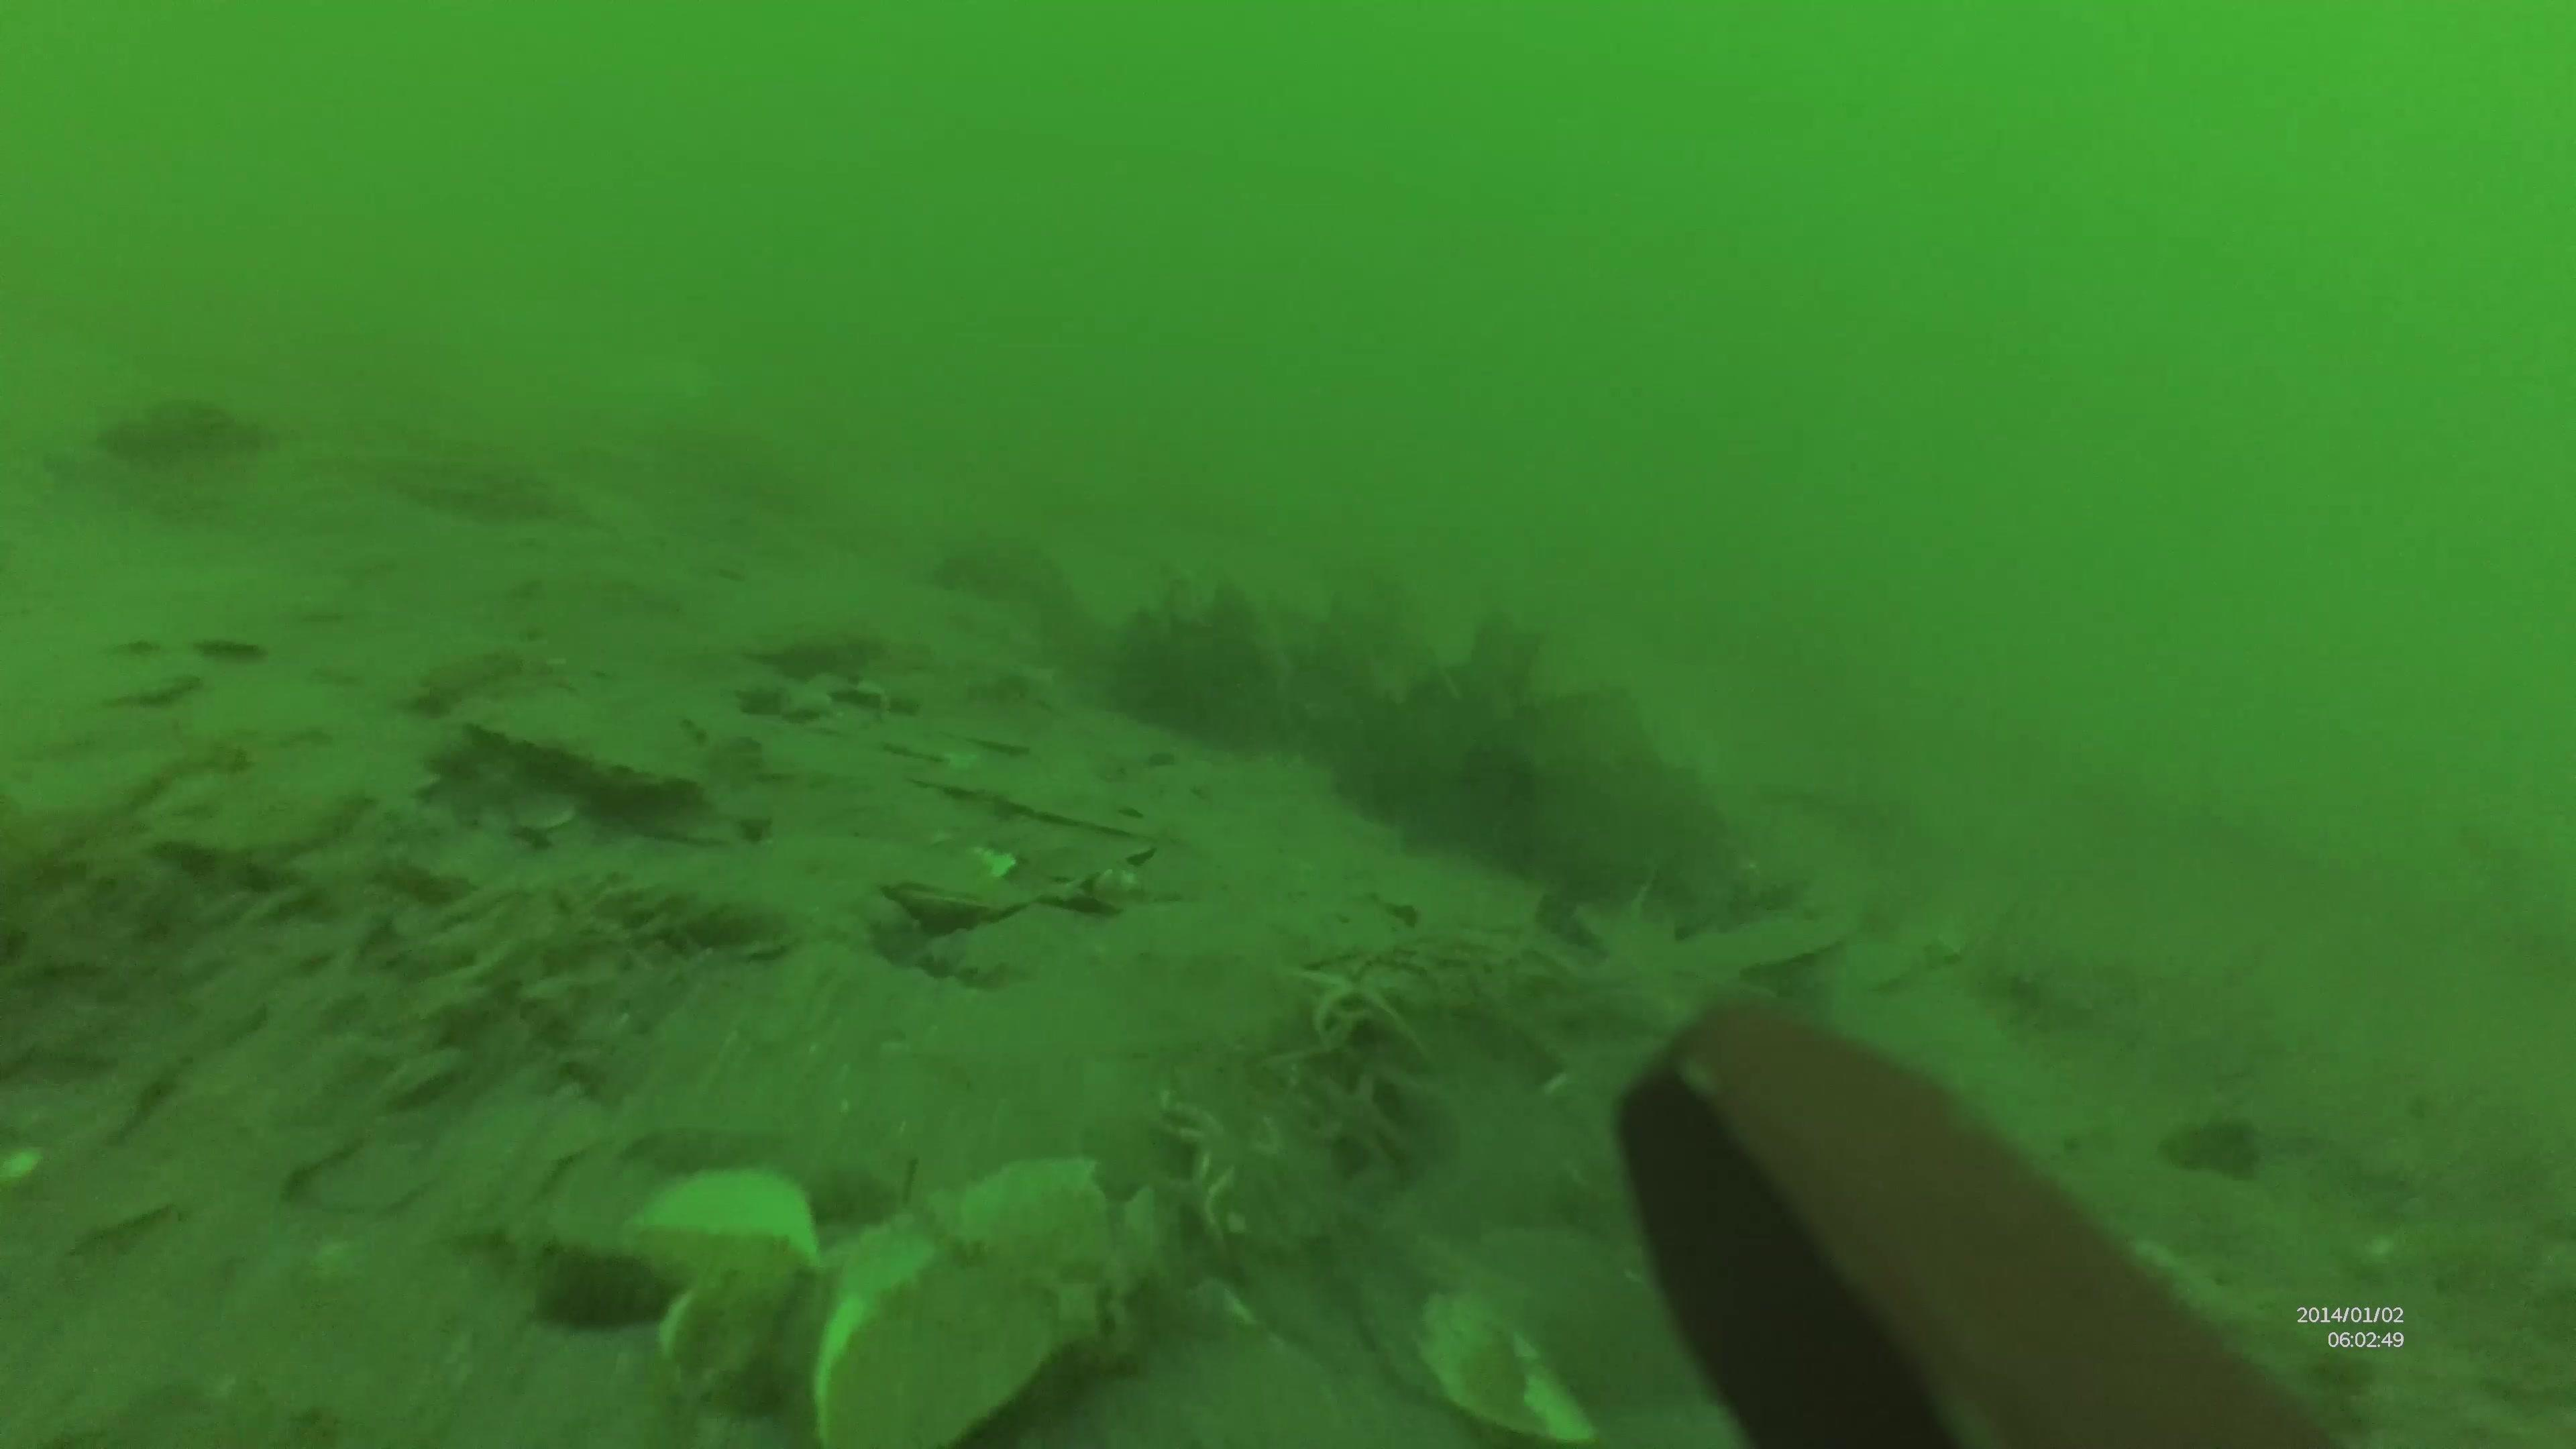scallop: (469, 697, 706, 830)
starfish: (1283, 1053, 1435, 1185), (1279, 947, 1430, 1060)
